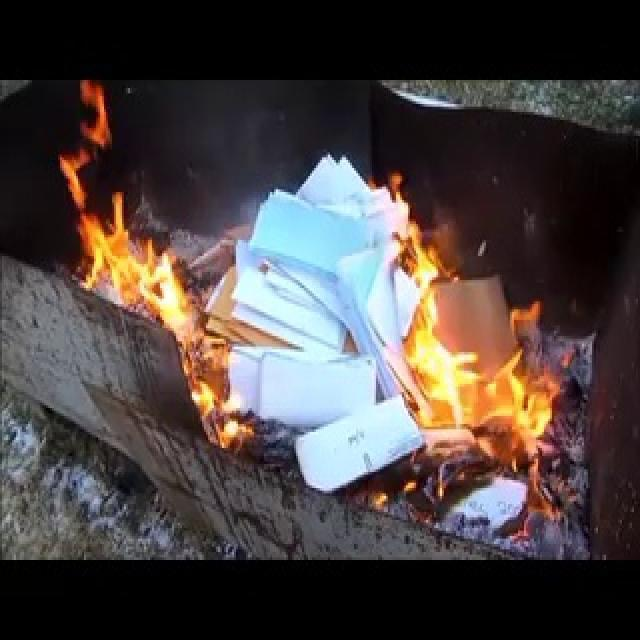Fire: (378, 175, 556, 461), (49, 115, 201, 331)
